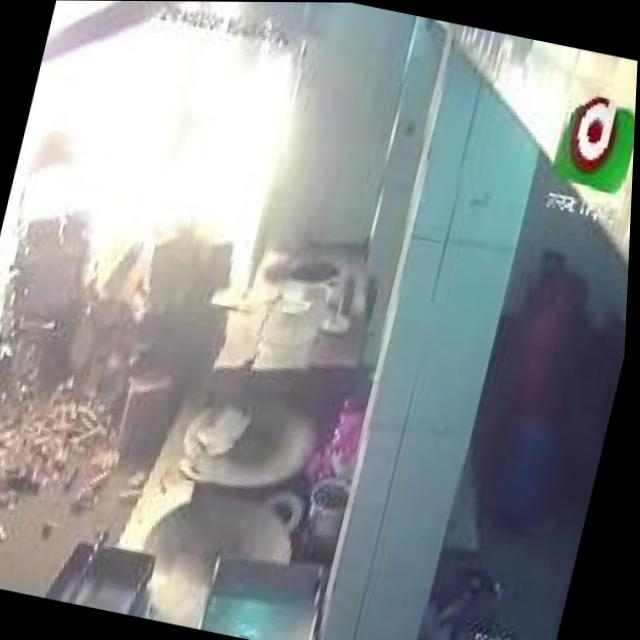fire: (0, 0, 330, 388)
